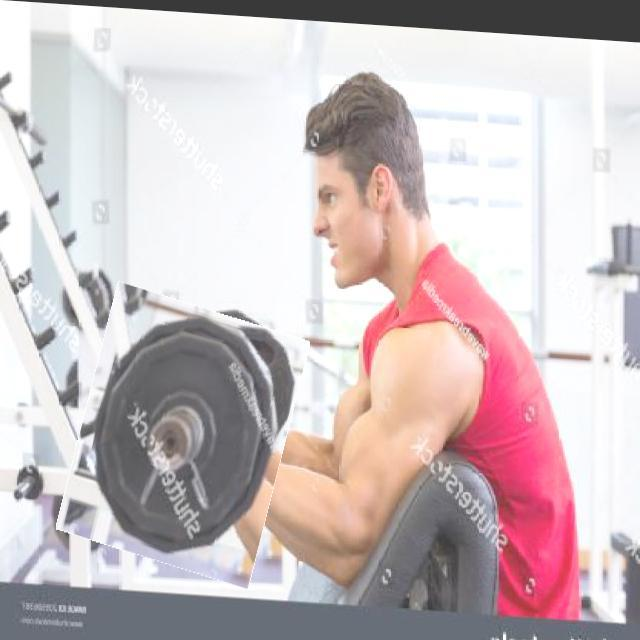barbell: (71, 288, 297, 578)
